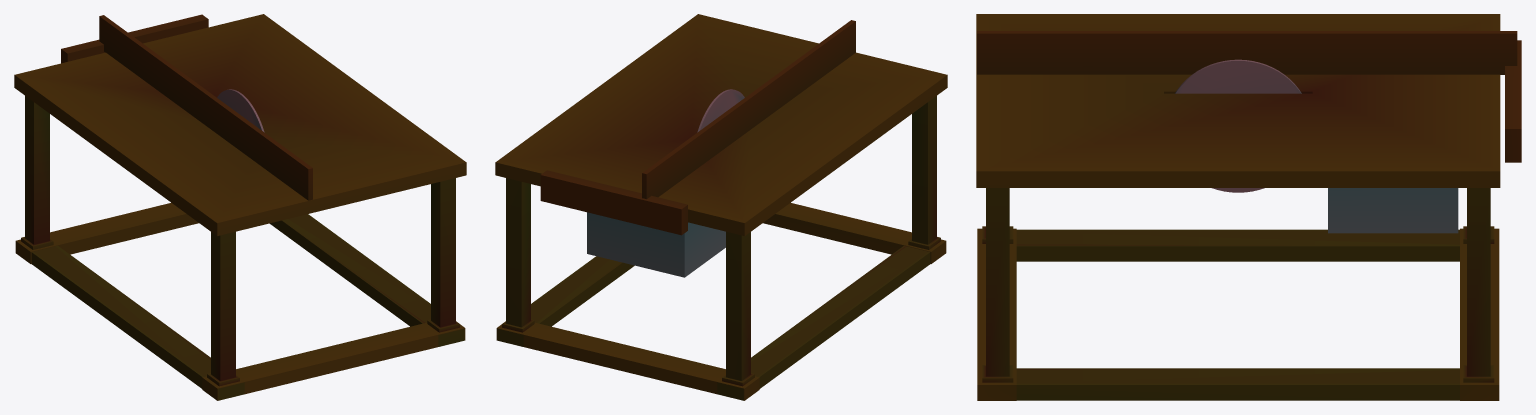
The picture shows the model from 3 angles, left to right: view 1: azimuth 30°, elevation 25°; view 2: azimuth 150°, elevation 25°; view 3: azimuth 270°, elevation 25°; orthographic projection. The views are drawn at different scales.
Parts seen in each view (by area): view 1: tabletop, low_rail, low_rail.001, fence, crossrail.001, crossrail.002, clamp, blade; view 2: tabletop, low_rail, fence, low_rail.001, crossrail.002, motor, clamp, crossrail.001, blade; view 3: tabletop, low_rail.001, fence, low_rail, motor, blade, crossrail.001, crossrail.002, clamp.
Part boxes in pixels (box(x1,y1,x2,y2)): tabletop: box(14, 14, 466, 236); low_rail: box(21, 96, 244, 400); low_rail.001: box(269, 178, 464, 346); fence: box(99, 15, 312, 200); crossrail.001: box(202, 322, 465, 400); crossrail.002: box(15, 202, 198, 263); clamp: box(61, 14, 208, 63); blade: box(217, 89, 264, 132); tabletop: box(495, 14, 947, 236); low_rail: box(717, 96, 940, 400); fence: box(642, 20, 855, 199); low_rail.001: box(497, 178, 634, 346); crossrail.002: box(496, 322, 759, 400); motor: box(587, 212, 725, 277); clamp: box(540, 170, 687, 235); crossrail.001: box(763, 202, 946, 263); blade: box(697, 89, 744, 132); tabletop: box(976, 14, 1500, 187); low_rail.001: box(982, 188, 1494, 400); fence: box(977, 31, 1517, 74); low_rail: box(982, 226, 1494, 261); motor: box(1328, 188, 1458, 233); blade: box(1175, 59, 1301, 192); crossrail.001: box(977, 228, 1016, 400); crossrail.002: box(1460, 228, 1499, 400); clamp: box(1505, 40, 1521, 162).
Bounding box in the file's own units: 0.8025 × 0.645 × 1.18.
